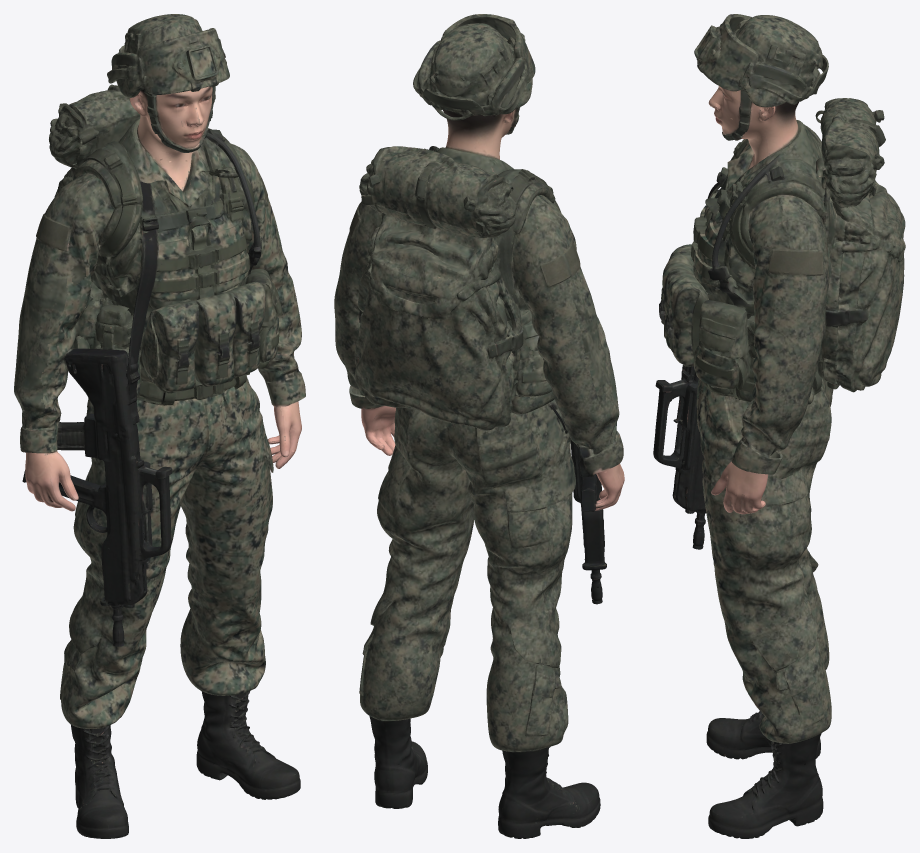
File: zavsoldier.glb
3 renders of one model, left to right at view 1: azimuth 30°, elevation 25°; view 2: azimuth 150°, elevation 25°; view 3: azimuth 270°, elevation 25°, orthographic. The views are drawn at different scales.
Visible parts, largest first — view 1: output; view 2: output; view 3: output.
Part boxes in pixels (box(x1,y1,x2,y2)): output: box(14, 14, 305, 838); output: box(334, 14, 624, 838); output: box(653, 14, 905, 838).
Size of the model in its own units: 0.7059 by 1.9 by 0.5656.
Materials: 1 (1 with a texture image).
